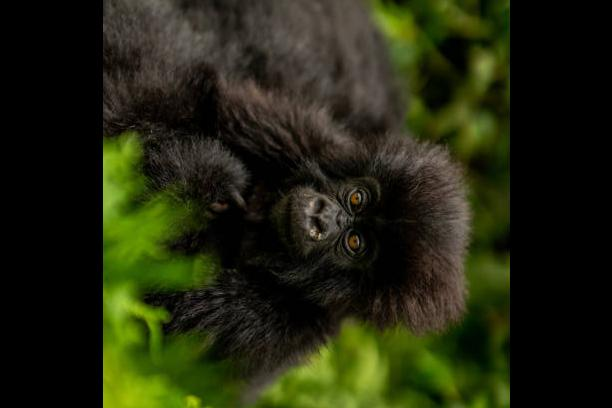goriile_montagne: (163, 98, 476, 382)
